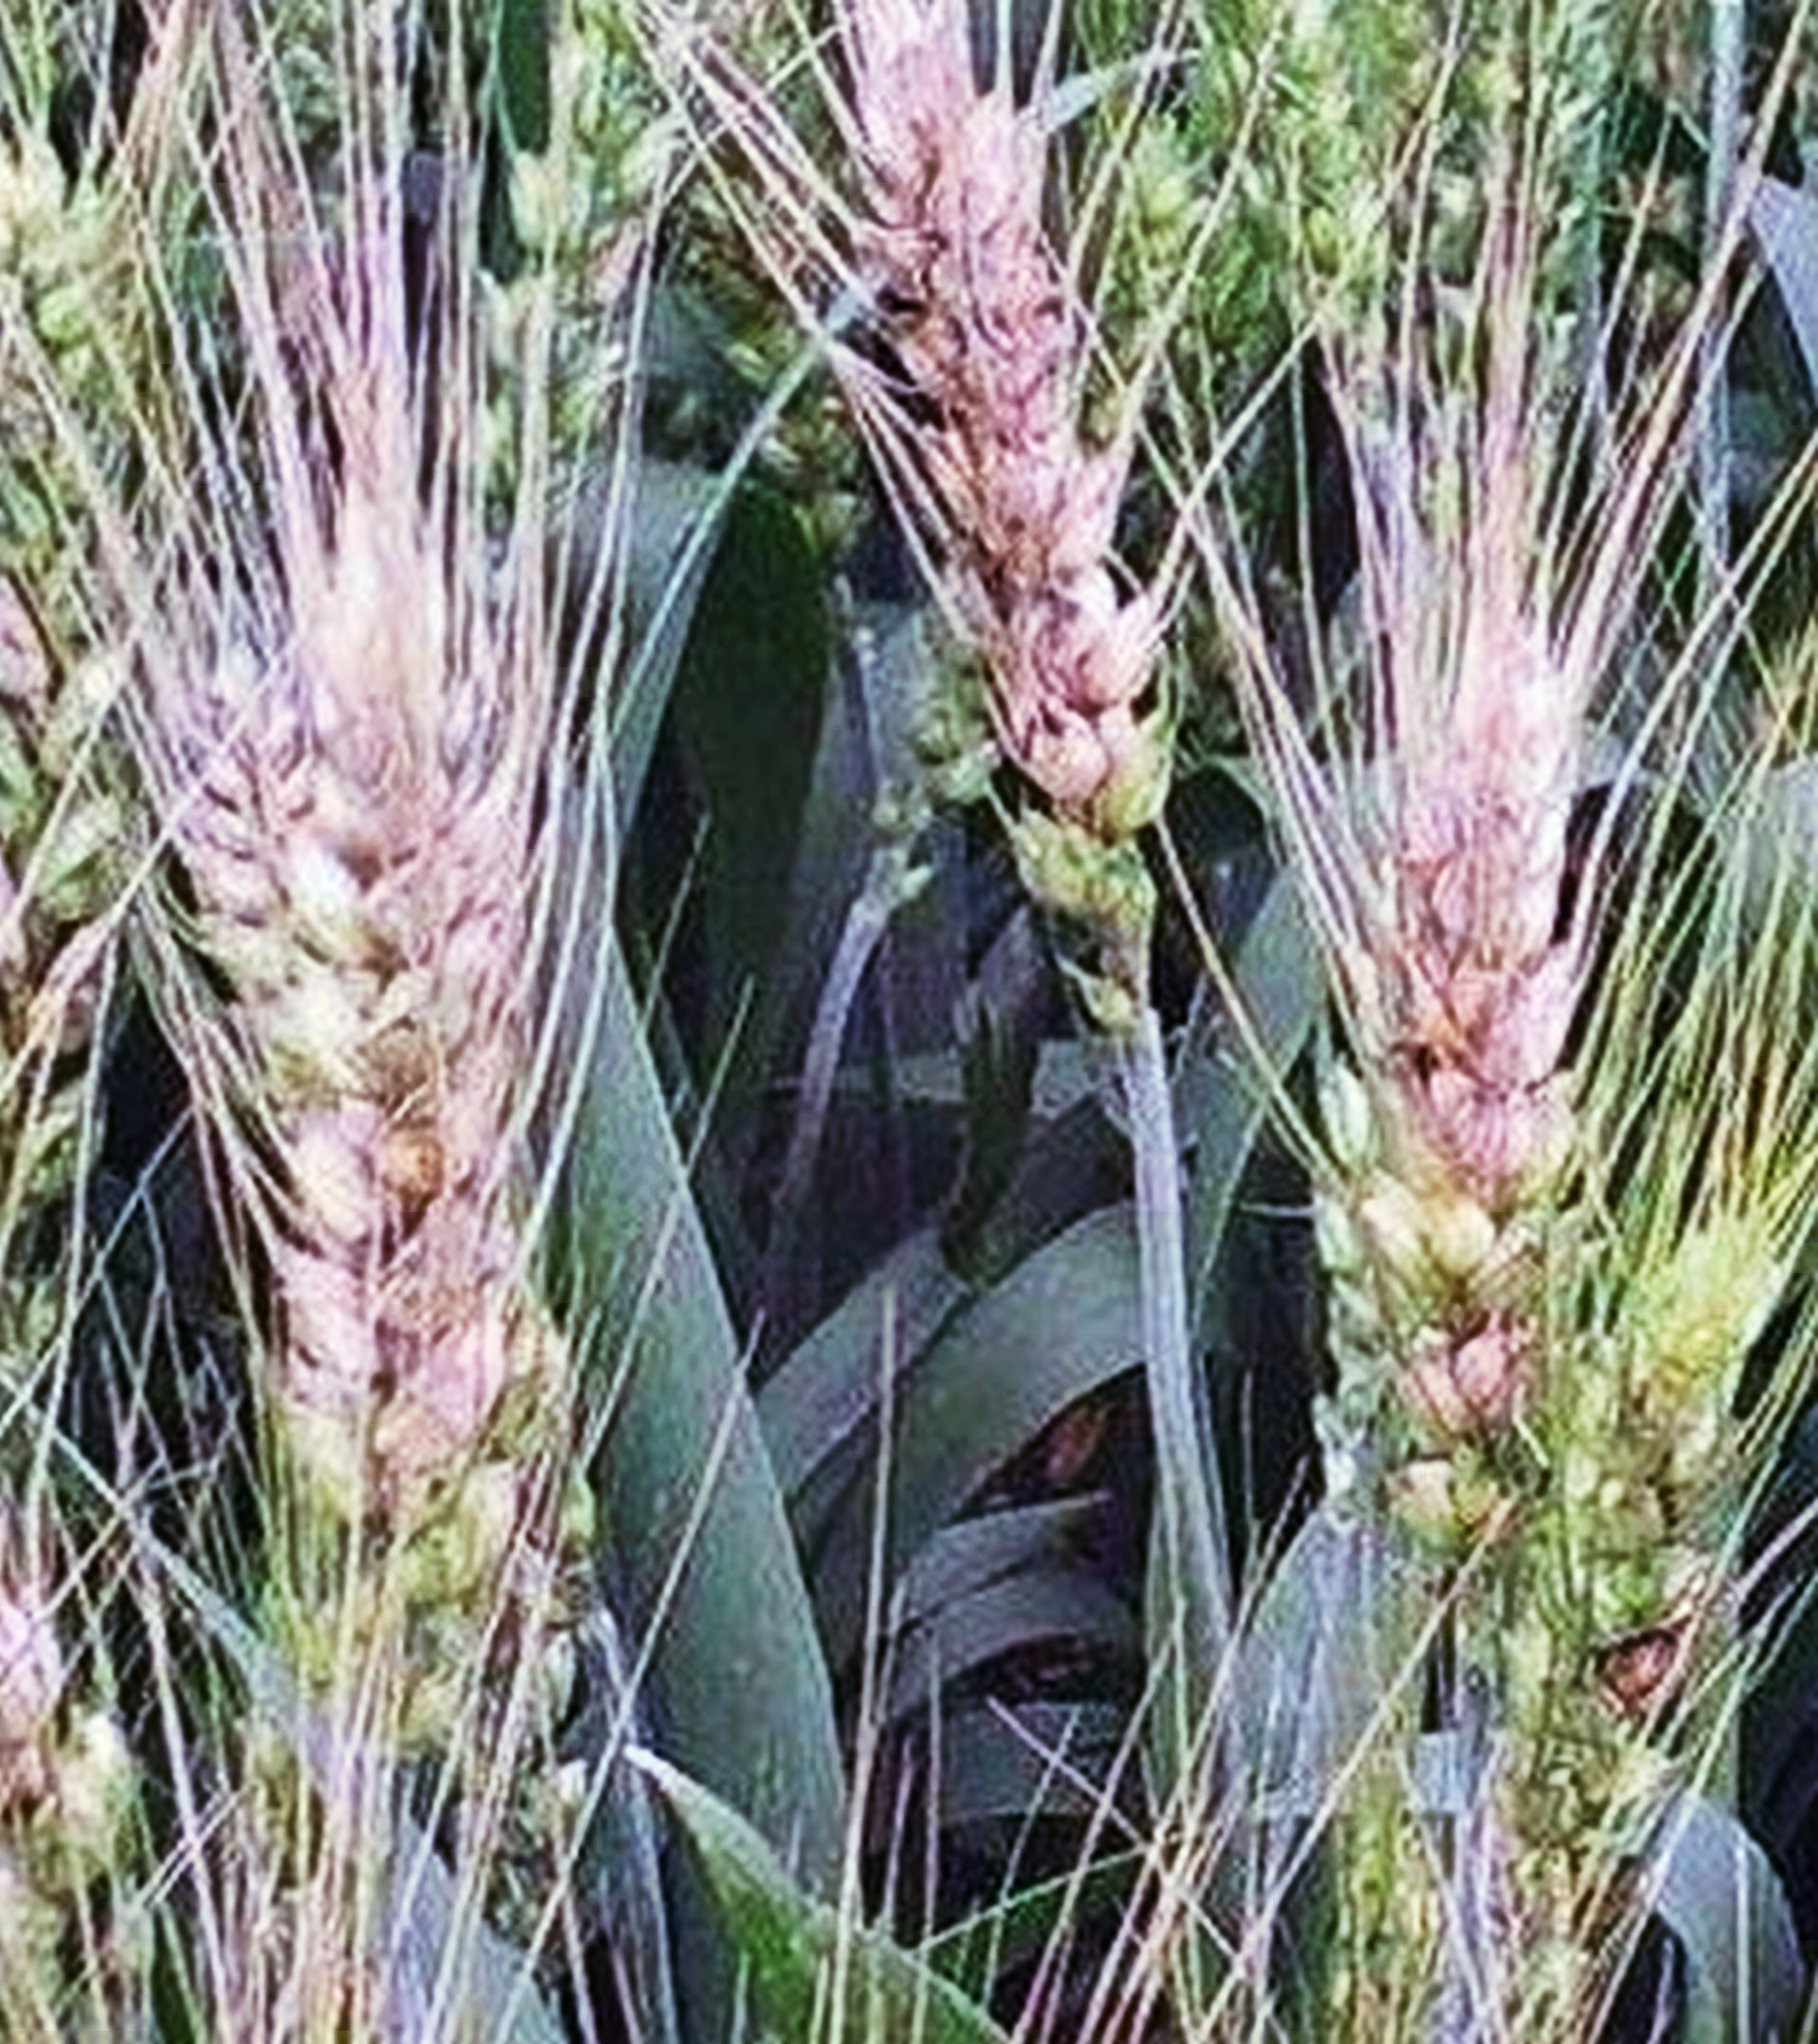Wheat scab: (809, 98, 1183, 963), (1348, 533, 1599, 1567)
